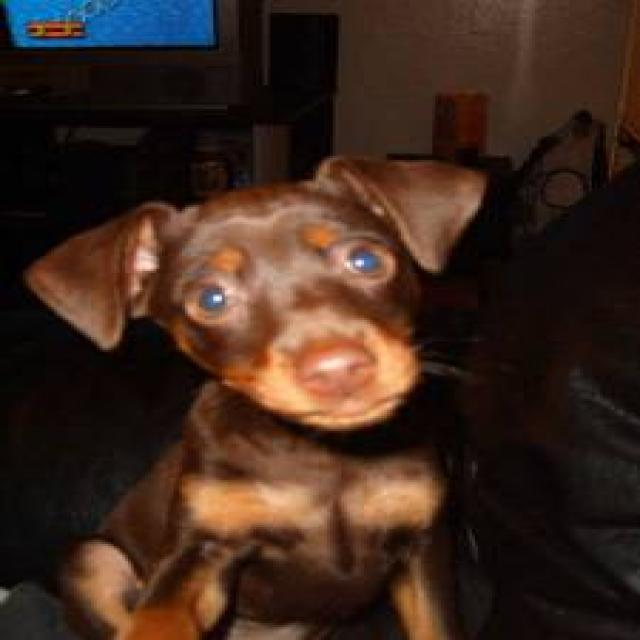dog-miniature_pinscher: (11, 149, 489, 636)
